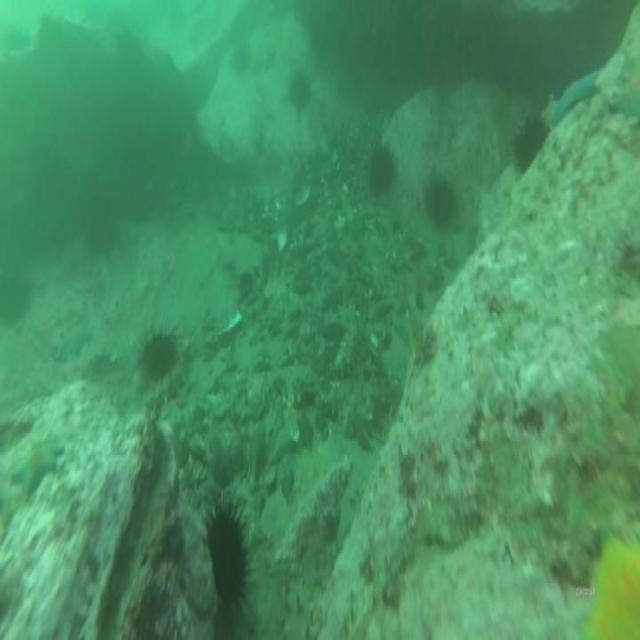echinus: (213, 510, 249, 607), (513, 123, 549, 166), (143, 335, 178, 379), (425, 176, 456, 224), (369, 148, 394, 198), (289, 70, 310, 110)
starfish: (13, 436, 63, 495), (553, 68, 596, 123), (59, 321, 92, 359)
